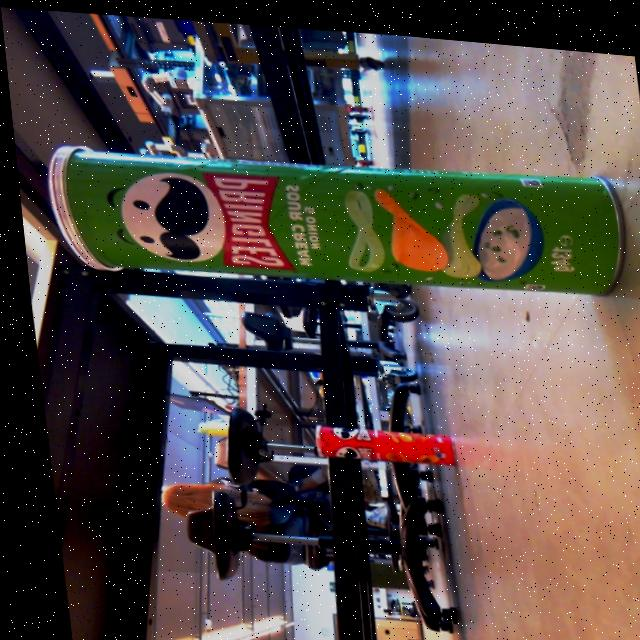greenpringles: (27, 110, 640, 332)
redpringles: (291, 396, 459, 471)
